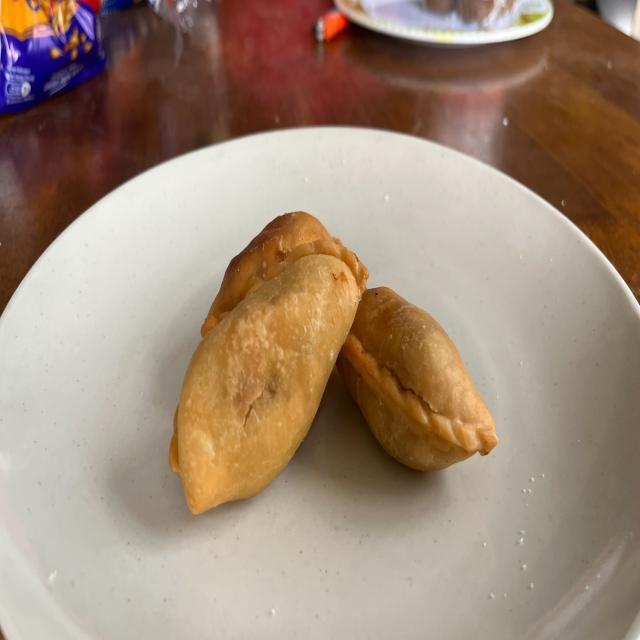karipap: (170, 253, 360, 513), (338, 287, 498, 471), (201, 211, 369, 336)
